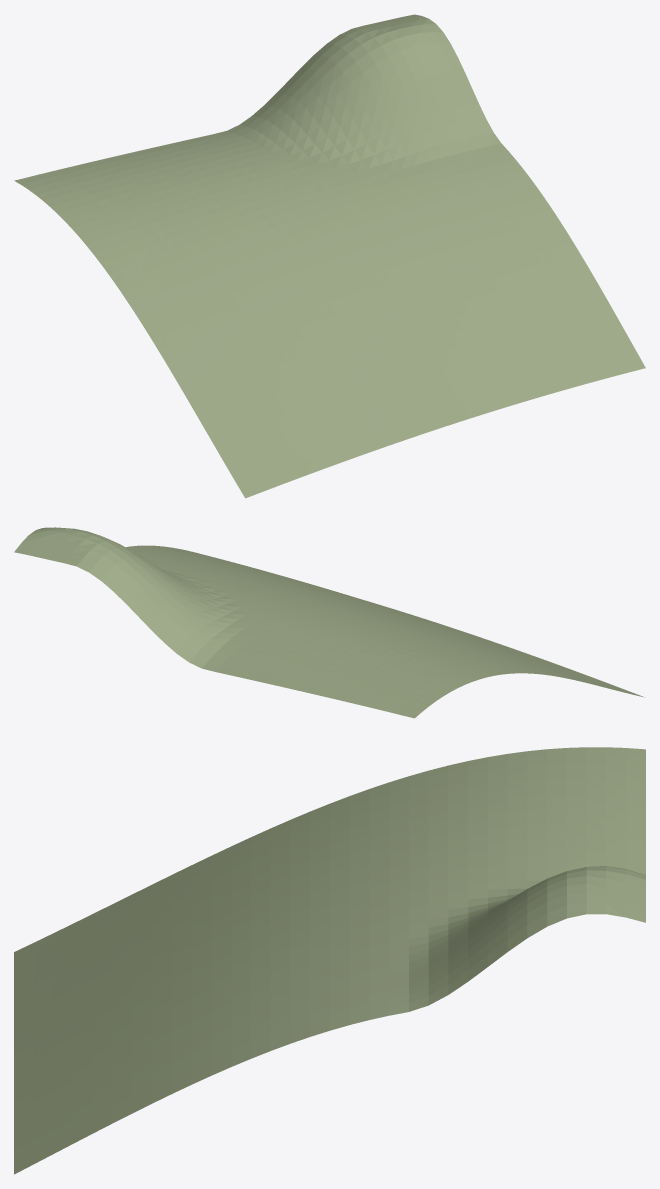
Rendered from expanse-24-29.glb.
3 views of the same model, one above another, from view 1: azimuth 30°, elevation 25°; view 2: azimuth 150°, elevation 25°; view 3: azimuth 270°, elevation 25° (orthographic). The views are drawn at different scales.
Visible parts, largest first — view 1: expanse-24-29; view 2: expanse-24-29; view 3: expanse-24-29.
Boxes of the visible parts, x1,y1,x2,y2 form: expanse-24-29: (14,14,645,498); expanse-24-29: (14,527,644,718); expanse-24-29: (14,747,645,1174).
Size of the model in its own units: 256 by 139 by 256.
